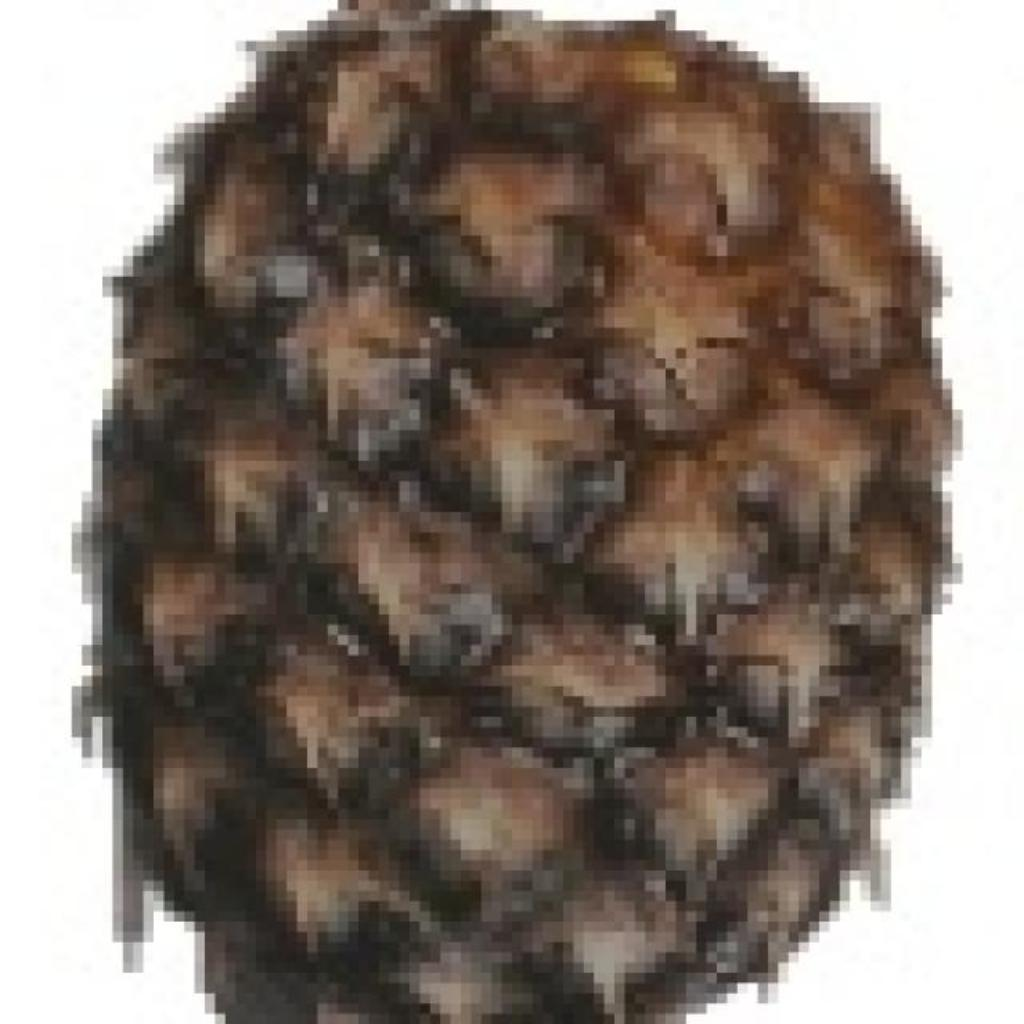pineapple: (86, 0, 952, 1024)
